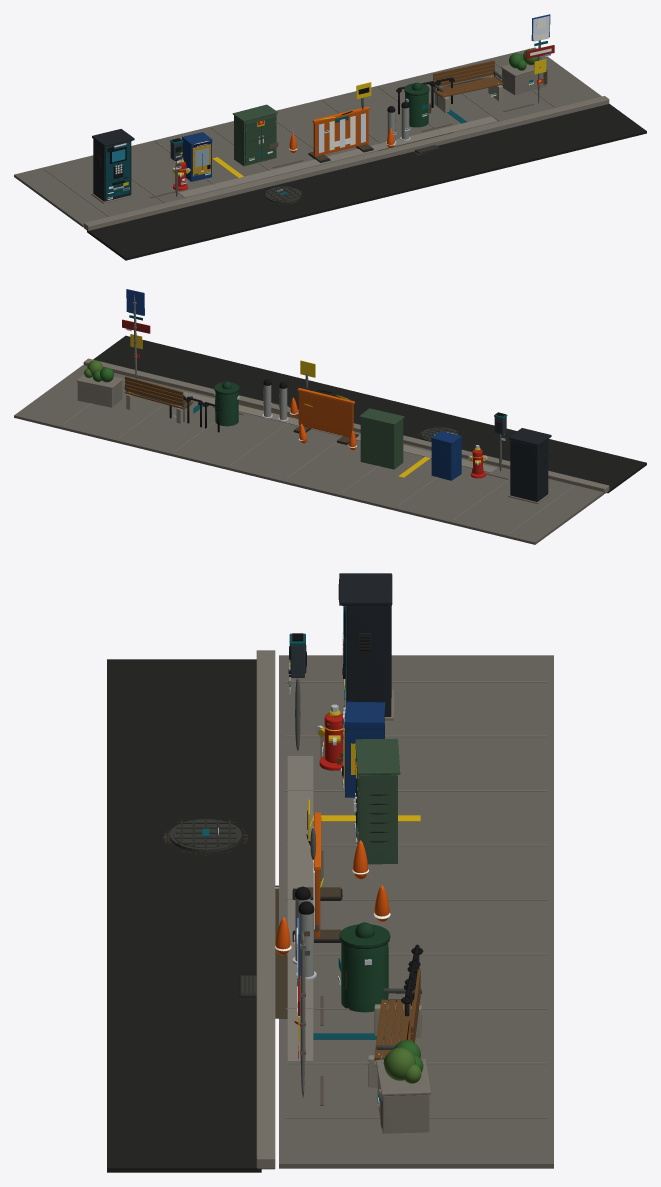
The model's file is hm_street_props_kit_v2.obj.
The picture shows the model from 3 angles, top to bottom: view 1: azimuth 30°, elevation 25°; view 2: azimuth 150°, elevation 25°; view 3: azimuth 270°, elevation 25°; orthographic projection. The views are drawn at different scales.
Visible parts, largest first — view 1: Strip_Road, Strip_Walk, Strip_Curb, Strip_Tactile, Bar_Panel, ATM_Face, ATM_Body, Cab_Body, Planter_Outer, Bin_Body, Cab_Door_L, Cab_Door_R (+3 smaller); view 2: Strip_Walk, Strip_Road, Strip_Curb, ATM_Body, Cab_Body, Bar_Panel, News_Body, Strip_Tactile, Planter_Outer, Bin_Body, ATM_Hood, Cab_Lip (+1 smaller); view 3: Strip_Walk, Strip_Road, Strip_Curb, Strip_Tactile, ATM_Body, Cab_Body, Bin_Body, Planter_Outer, ATM_Hood, Cab_Lip, News_Header, Planter_Rim (+3 smaller).
Boxes of the visible parts, bbox=[...] form: Strip_Road: bbox=[87, 104, 646, 260]; Strip_Walk: bbox=[14, 47, 601, 226]; Strip_Curb: bbox=[83, 96, 609, 230]; Strip_Tactile: bbox=[178, 116, 497, 197]; Bar_Panel: bbox=[313, 110, 368, 156]; ATM_Face: bbox=[105, 142, 130, 198]; ATM_Body: bbox=[93, 139, 131, 201]; Cab_Body: bbox=[234, 113, 276, 166]; Planter_Outer: bbox=[502, 68, 546, 95]; Bin_Body: bbox=[405, 92, 428, 127]; Cab_Door_L: bbox=[245, 120, 259, 164]; Cab_Door_R: bbox=[261, 115, 275, 160]; Strip_Walk: bbox=[14, 365, 603, 544]; Strip_Road: bbox=[93, 335, 646, 493]; Strip_Curb: bbox=[83, 358, 609, 493]; ATM_Body: bbox=[510, 439, 548, 501]; Cab_Body: bbox=[360, 417, 403, 469]; Bar_Panel: bbox=[298, 391, 353, 437]; News_Body: bbox=[431, 440, 461, 480]; Strip_Tactile: bbox=[183, 391, 497, 472]; Planter_Outer: bbox=[77, 381, 122, 407]; Bin_Body: bbox=[215, 391, 238, 426]; ATM_Hood: bbox=[509, 428, 551, 446]; Cab_Lip: bbox=[359, 408, 404, 424]; Strip_Walk: bbox=[279, 655, 553, 1168]; Strip_Road: bbox=[107, 659, 261, 1172]; Strip_Curb: bbox=[256, 650, 275, 1169]; Strip_Tactile: bbox=[287, 756, 313, 1062]; ATM_Body: bbox=[347, 605, 391, 716]; Cab_Body: bbox=[359, 774, 397, 864]; Bin_Body: bbox=[341, 942, 388, 1012]; Planter_Outer: bbox=[377, 1073, 429, 1133]; ATM_Hood: bbox=[339, 573, 392, 605]; Cab_Lip: bbox=[355, 738, 400, 774]; News_Header: bbox=[344, 701, 385, 729]; Planter_Rim: bbox=[376, 1058, 430, 1095].
Bounding box in the file's own units: 14 × 2.47 × 5.2.
